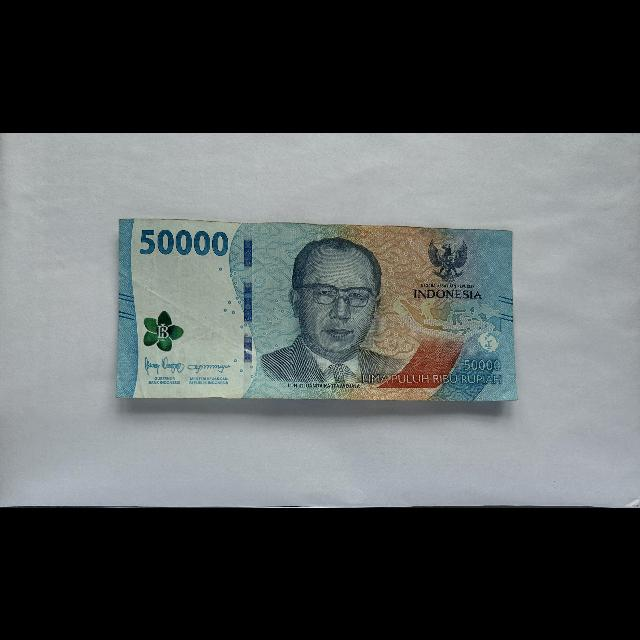Asli-50k: (115, 215, 520, 402)
Tinta-Asli-50k: (142, 309, 185, 352)
